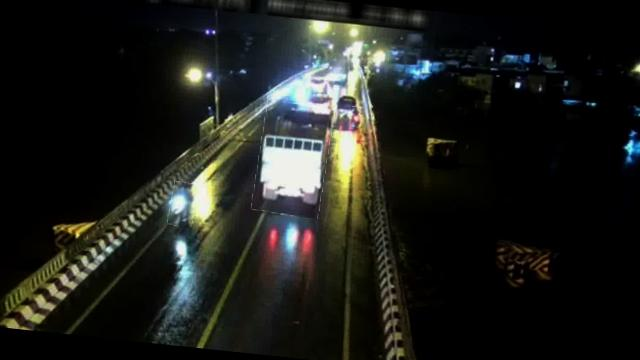Bike: (168, 182, 198, 228), (348, 106, 361, 128)
Truck: (252, 100, 334, 219)
